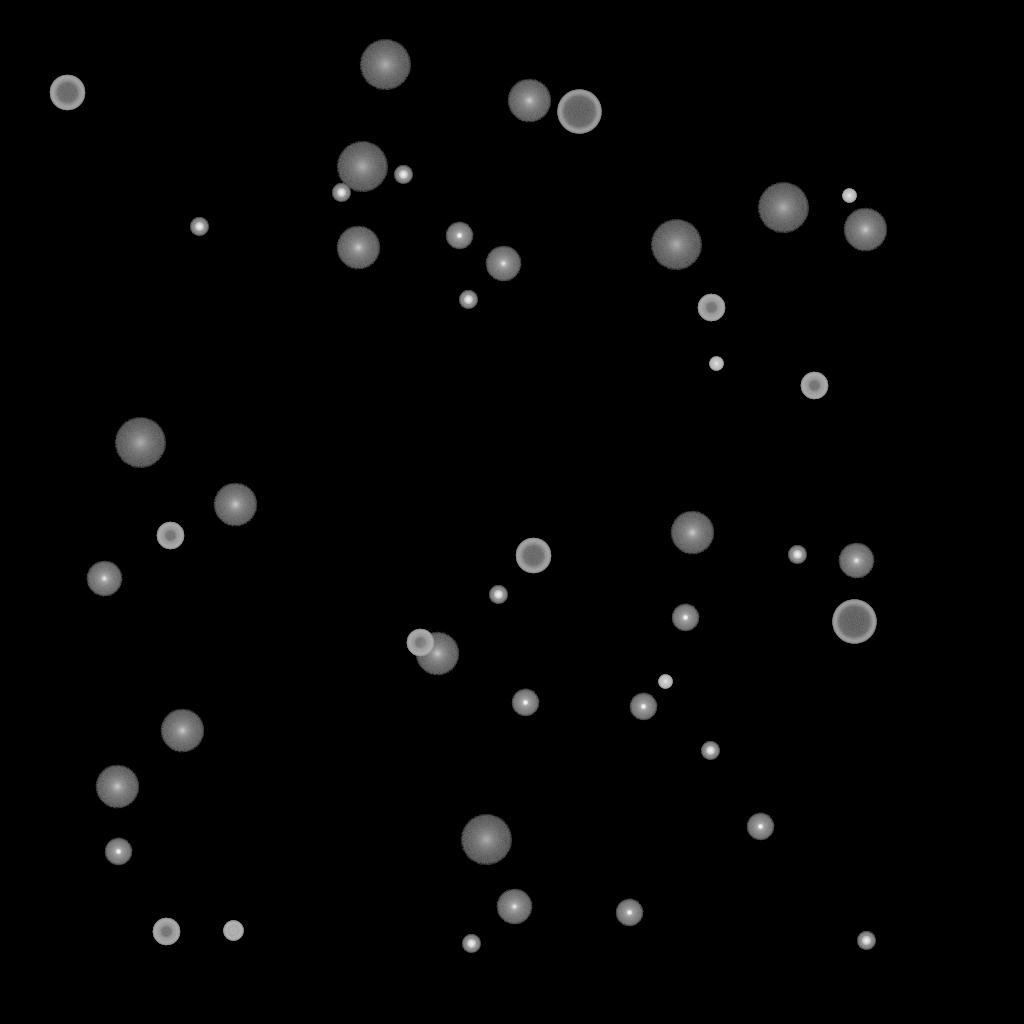depth:-10: (629, 693, 657, 721), (746, 813, 774, 841), (615, 899, 643, 927), (104, 838, 132, 866), (511, 689, 539, 717), (445, 222, 473, 250), (671, 604, 699, 632)
depth:-20: (332, 184, 350, 202), (462, 935, 480, 953), (394, 166, 412, 184), (701, 742, 719, 760), (190, 218, 208, 236), (788, 546, 806, 564), (857, 932, 875, 950), (459, 291, 477, 309), (489, 586, 507, 604)
depth:-30: (658, 675, 672, 689), (842, 189, 856, 203), (709, 357, 723, 371)
depth:-40: (223, 921, 243, 941)
depth:-50: (406, 629, 434, 657), (800, 372, 828, 400), (697, 294, 725, 322), (152, 918, 180, 946), (156, 522, 184, 550)
depth:-60: (49, 75, 85, 111), (515, 538, 551, 574)
depth:-70: (832, 600, 876, 644), (557, 90, 601, 134)
depth:0: (485, 246, 521, 282), (86, 561, 122, 597), (496, 889, 532, 925), (838, 543, 874, 579)
depth:10: (95, 765, 139, 809), (415, 632, 459, 676), (670, 511, 714, 555), (213, 483, 257, 527), (160, 709, 204, 753), (336, 226, 380, 270), (843, 208, 887, 252), (507, 79, 551, 123)
depth:20: (650, 220, 702, 270), (336, 142, 388, 192), (757, 183, 809, 233), (114, 418, 166, 468), (460, 815, 512, 865), (359, 40, 411, 90)
